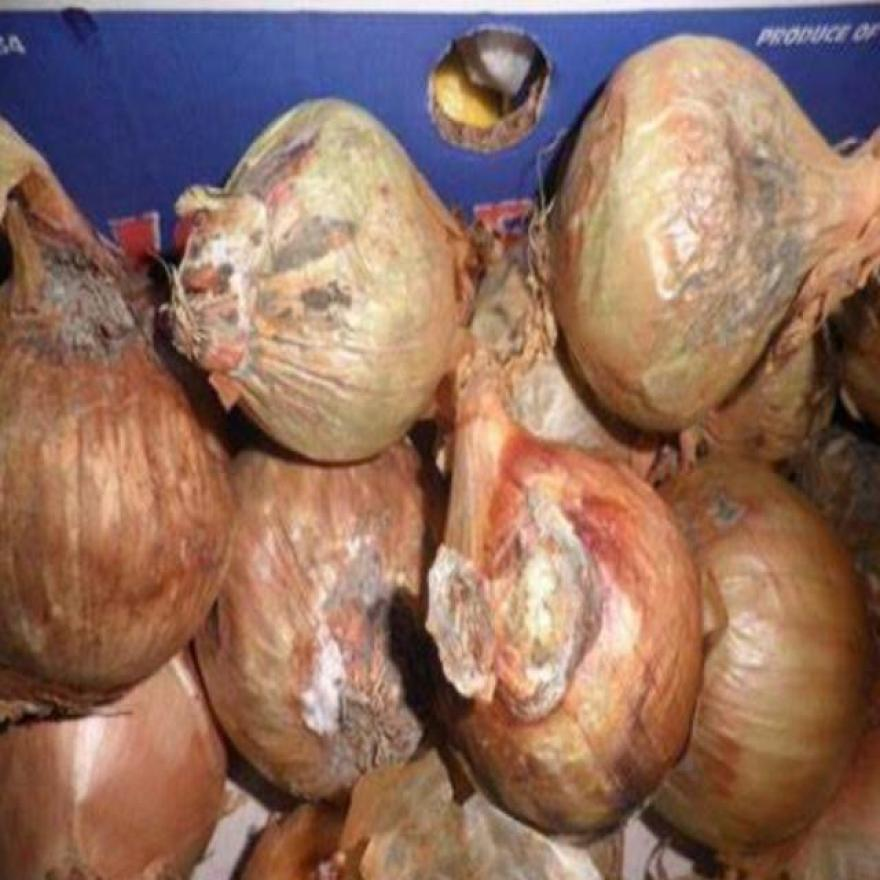Rotten: (706, 135, 819, 353), (446, 548, 588, 684), (248, 173, 332, 326)
